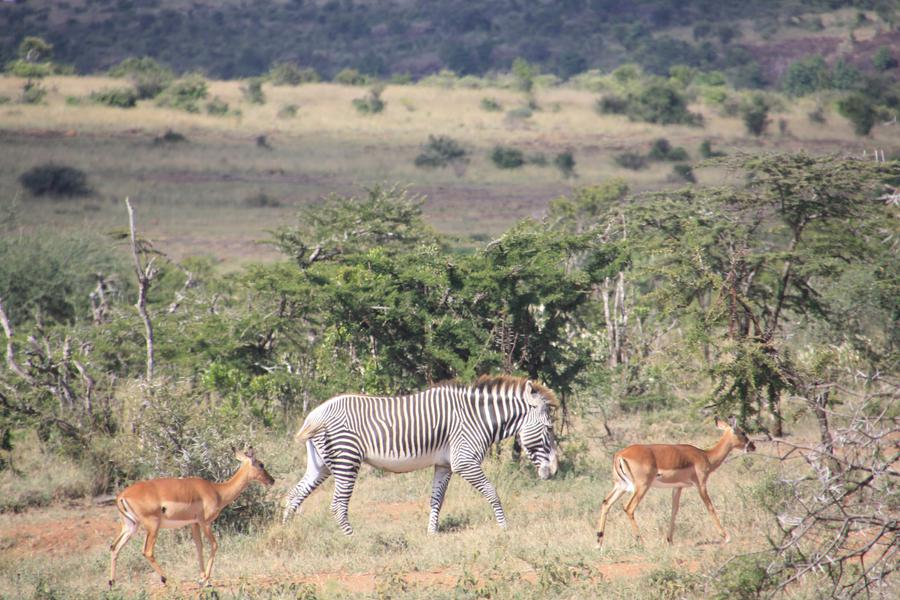zebra_grevys: (300, 395, 490, 468)
